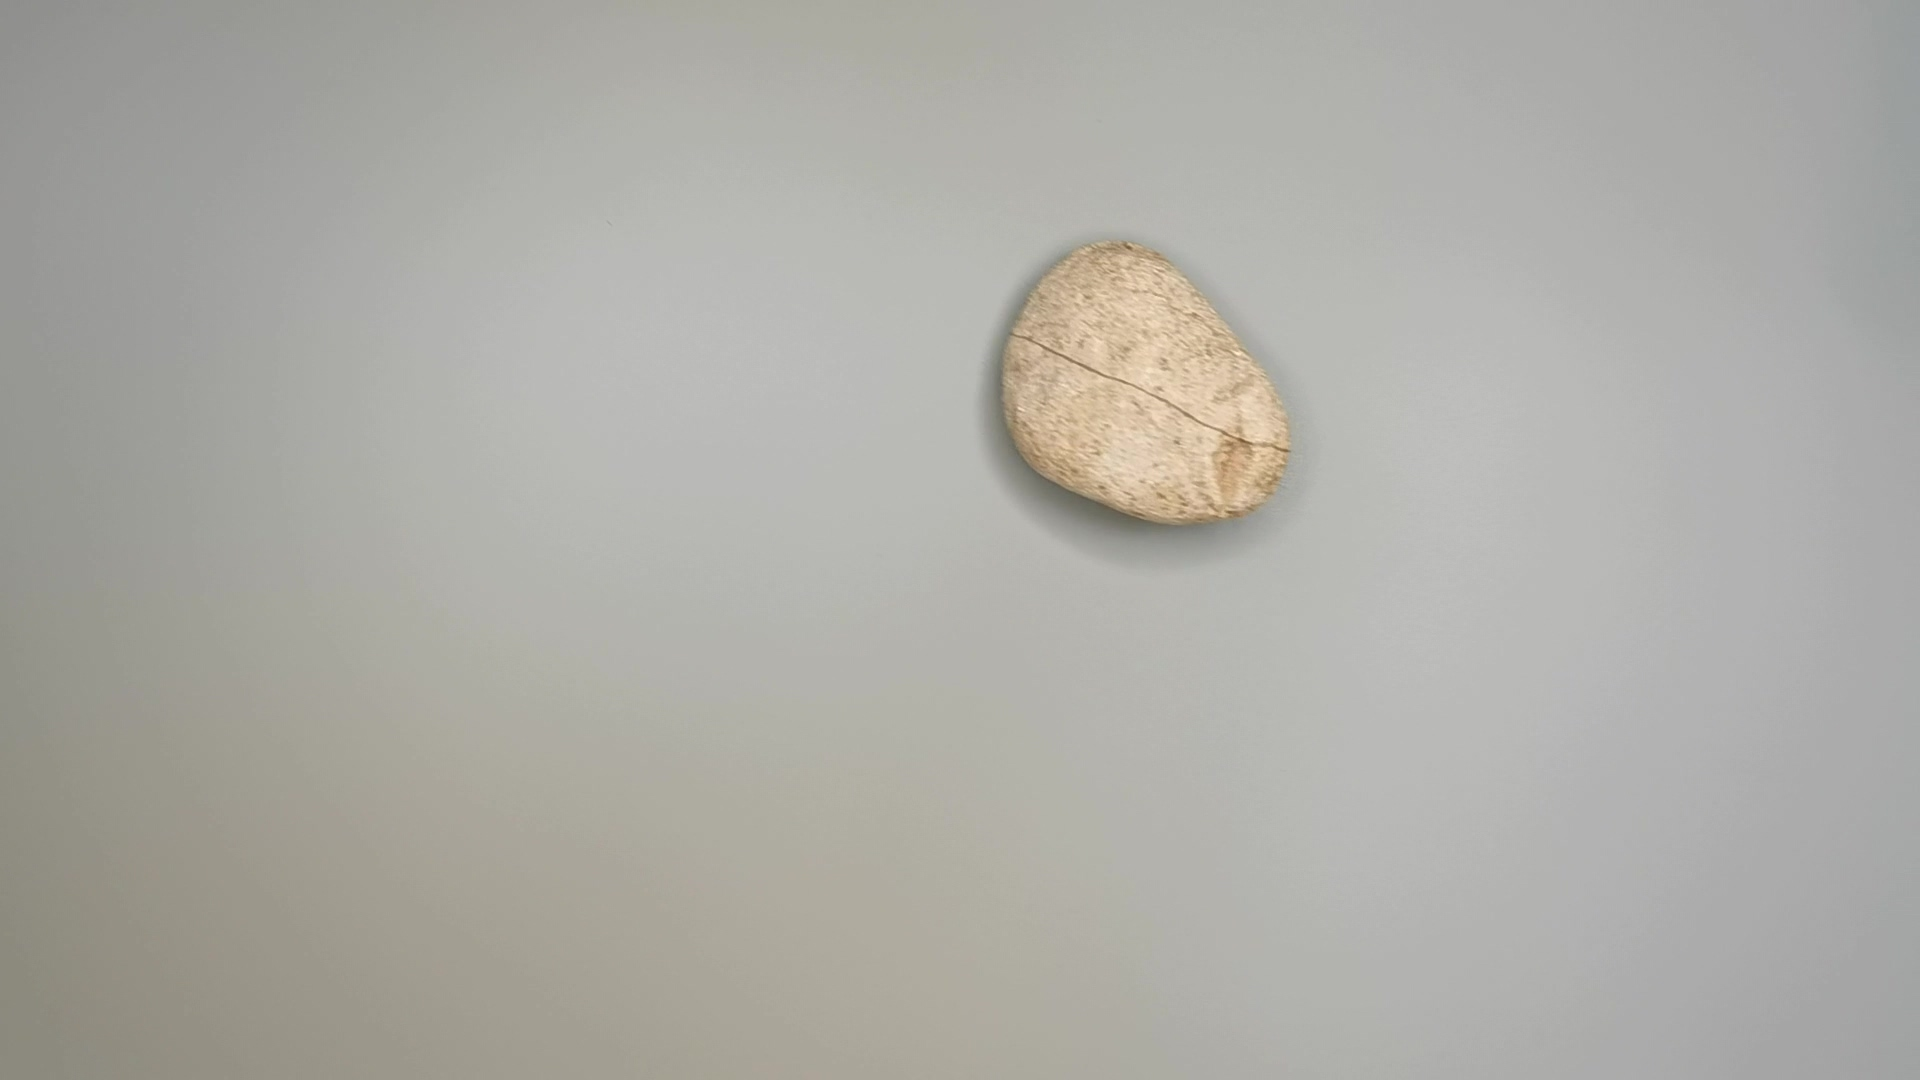ceramic: (993, 237, 1302, 530)
